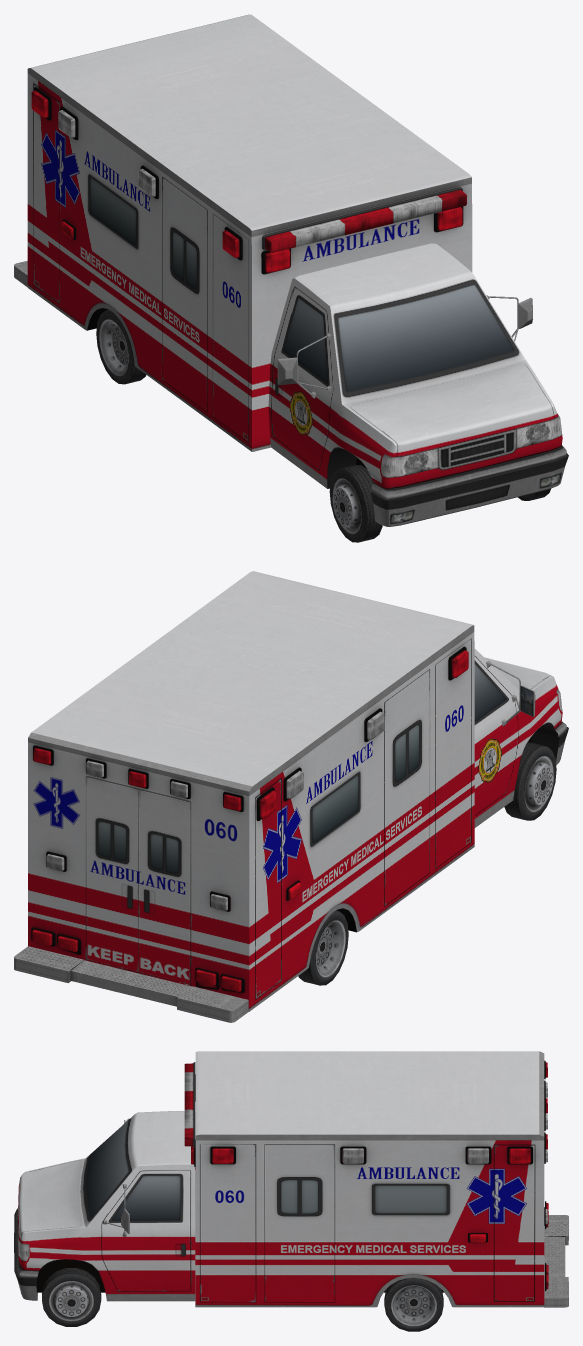
The picture shows the model from 3 angles, top to bottom: view 1: azimuth 30°, elevation 25°; view 2: azimuth 150°, elevation 25°; view 3: azimuth 270°, elevation 25°; orthographic projection. The views are drawn at different scales.
Parts seen in each view (by area): view 1: amulans_Material #84_0; view 2: amulans_Material #84_0, Object002_Material #84_0, Object006_Material #84_0; view 3: amulans_Material #84_0.
Boxes of the visible parts, bbox=[...] form: amulans_Material #84_0: bbox=[14, 14, 568, 542]; amulans_Material #84_0: bbox=[14, 571, 568, 1022]; Object002_Material #84_0: bbox=[86, 776, 138, 972]; Object006_Material #84_0: bbox=[138, 789, 190, 984]; amulans_Material #84_0: bbox=[14, 1051, 568, 1331].
Bounding box in the file's own units: 2.77 × 2.66 × 6.73.
2 materials, 1 textured.
